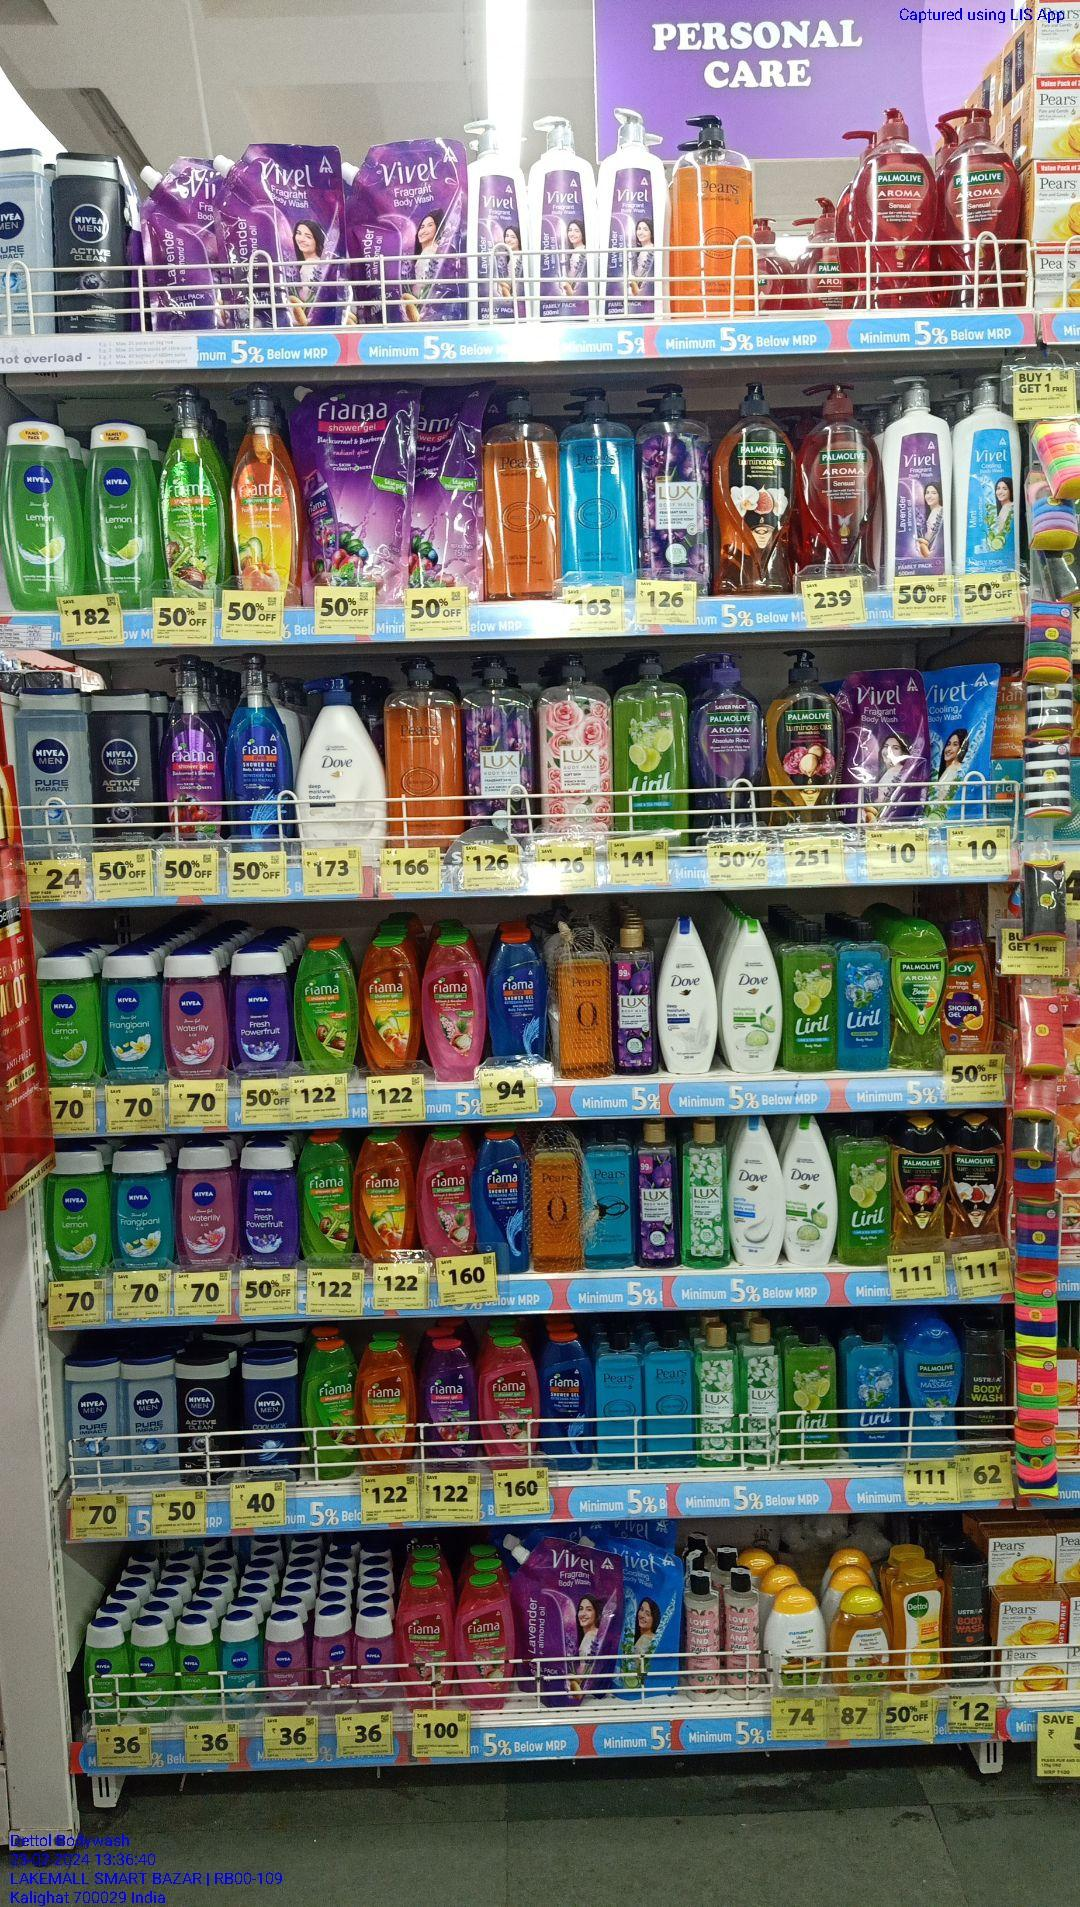Dettol_Bodywash_Refresh: (895, 1559, 945, 1695)
Dove_Deep_Moisture_Body_Wash_250ML: (661, 918, 717, 1075)
Dove_Gentle_Exfoliating_Body_Wash_250ML: (730, 1122, 780, 1265)
Dove_Refreshing_Body_Wash_250ML: (723, 919, 779, 1074), (788, 1122, 833, 1264)
Fiama_Shower_Gel_Lemongrass_and_Jojoba_250ML: (293, 943, 355, 1075), (306, 1337, 357, 1481), (298, 1134, 351, 1269)
Fiama_Shower_Gel_Patchouli_and_Macadamia_250ML: (423, 933, 480, 1084), (459, 1568, 516, 1713), (398, 1572, 456, 1711), (482, 1333, 535, 1470), (418, 1129, 471, 1256)
Fiama_Shower_Gel_Peach_and_Avocado_250ML: (357, 1339, 416, 1477), (360, 939, 419, 1074), (353, 1128, 412, 1256)
Joy_Shower_Gel_Mandarin_and_Lemongrass_250ML: (946, 919, 994, 1056)
Liril_Cooling_Mint_Body_Wash_250ML: (850, 1323, 905, 1460), (838, 923, 889, 1071)
Liril_Lime_and_Tea_Tree_Oil_Body_Wash_250ML: (785, 919, 837, 1071), (787, 1325, 842, 1464), (840, 1121, 891, 1265)
Lux_Black_Orchid_Scent_and_Juniper_Oil_Body_Wash_245ML: (614, 927, 658, 1074), (636, 1125, 681, 1268)
Lux_Body_Wash_Skin_Detox_Freesia_Scent_and_Alove_Vera_245ML: (683, 1120, 728, 1269), (695, 1327, 741, 1470), (741, 1327, 783, 1463)
Nivea_Shower_Gel_Frangipani_and_Oil_250ML: (102, 955, 160, 1082), (114, 1149, 173, 1269)
Nivea_Shower_Gel_Fresh_Powerfruit_250ML: (230, 948, 292, 1071), (240, 1143, 295, 1270)
Nivea_Shower_Gel_Lemon_and_Oil_250ML: (1, 420, 82, 604), (88, 422, 161, 602), (48, 1143, 113, 1280), (39, 955, 101, 1084)
Nivea_Shower_Gel_Waterlily_and_Oil_250ML: (162, 952, 226, 1081), (175, 1145, 237, 1269)
Palmolive_Aroma_Moments_Feel_The_Massage_Shower_Gel_250ML: (909, 1324, 961, 1456)
Palmolive_Aroma_Morning_Tonic_Shower_Gel_250ML: (891, 922, 945, 1070)
Palmolive_Luminous_Oils_Invigorating_Macadamia_Oil_With_Peony_250ML: (894, 1117, 948, 1253)
Palmolive_Luminous_Oils_With_White_Orchid_Shower_Gel_250ML: (949, 1117, 1004, 1252)
Pears_Pure_Glycerin_and_Mint_Extracts_Body_Wash_250ML: (583, 1122, 635, 1268), (647, 1328, 698, 1468), (594, 1333, 645, 1467)
